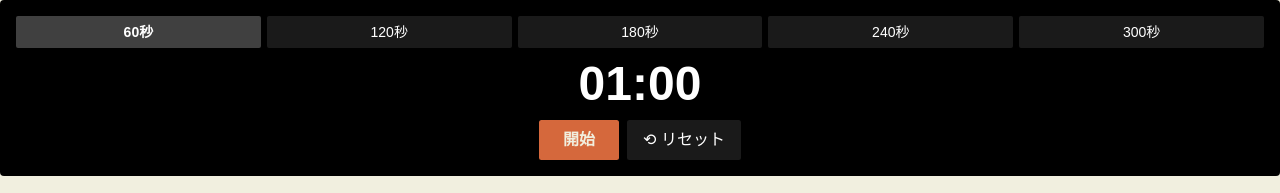
Test case: RestTimer › リセットで基準時間に戻る
What coordinates should you click on to do the following:
click the button "開始"
I would click on:
 (579, 140)
Its box is [539,120,619,160].
Wait 5000 ms
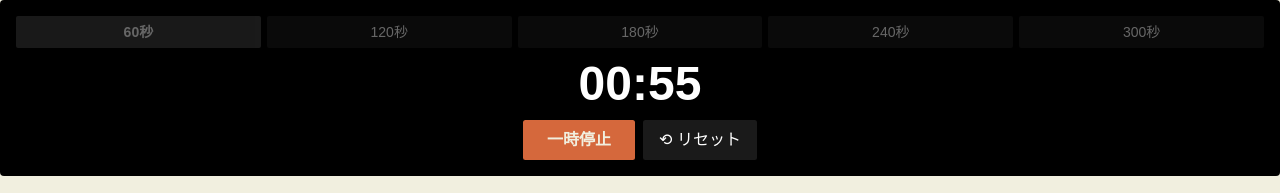
Now the text "00:55" is shown, box [579,57,701,110]
What coordinates should you click on to do the following:
click the button "⟲ リセット"
I would click on:
 (700, 140)
Its box is [643,120,757,160].
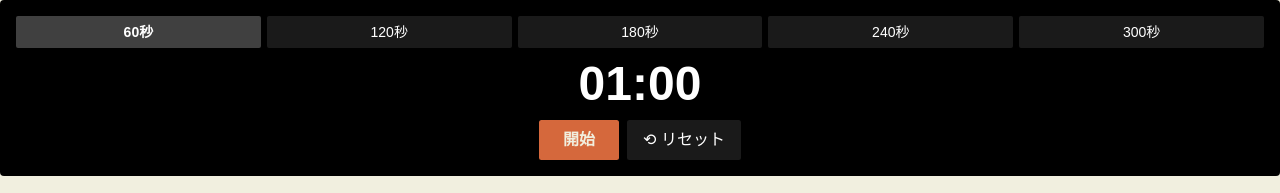
Now the text "01:00" is shown, box [579,57,701,110]
